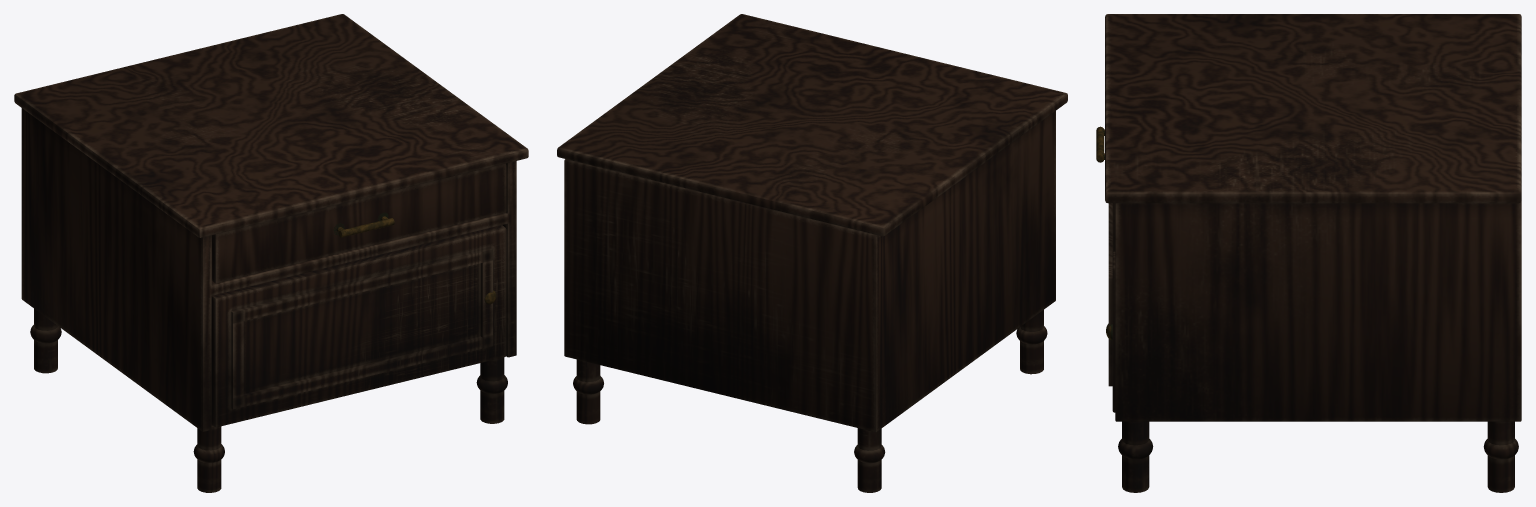
Rendered from attic_nightstand_a.glb.
The picture shows the model from 3 angles, left to right: view 1: azimuth 30°, elevation 25°; view 2: azimuth 150°, elevation 25°; view 3: azimuth 270°, elevation 25°; orthographic projection. The views are drawn at different scales.
Parts seen in each view (by area): view 1: Body, Door0, Drawer0, Drawer0Pull; view 2: Body; view 3: Body, Door0.
Boxes of the visible parts, x1,y1,x2,y2 form: Body: (14,14,528,492); Door0: (211,225,506,427); Drawer0: (211,163,506,283); Drawer0Pull: (333,212,394,237); Body: (557,14,1067,492); Body: (1105,14,1521,492); Door0: (1108,203,1115,412).
Size of the model in its own units: 0.63 by 0.5 by 0.628.
5 materials, 5 textured.
